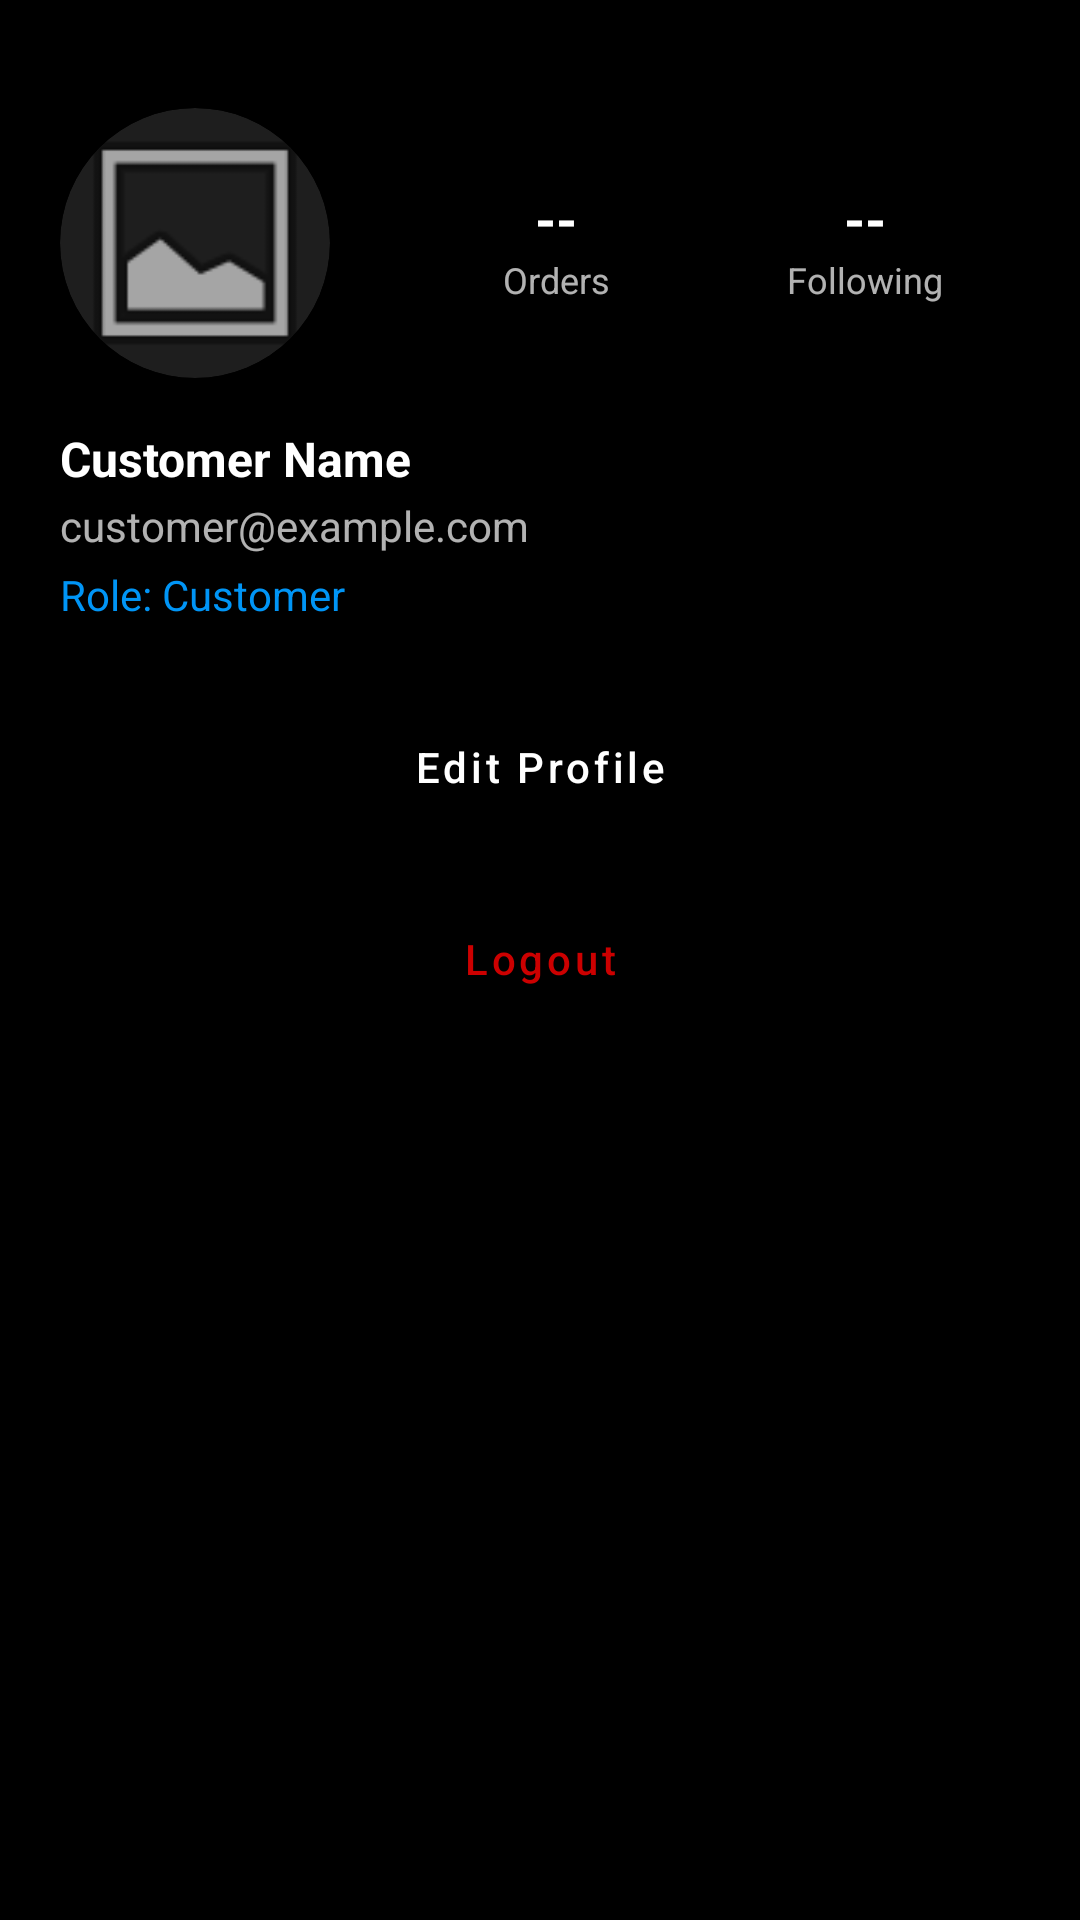

Named icons in this screenshot (1080 x 1920) and their centers, [x,y]:
gallery: [195,243]
